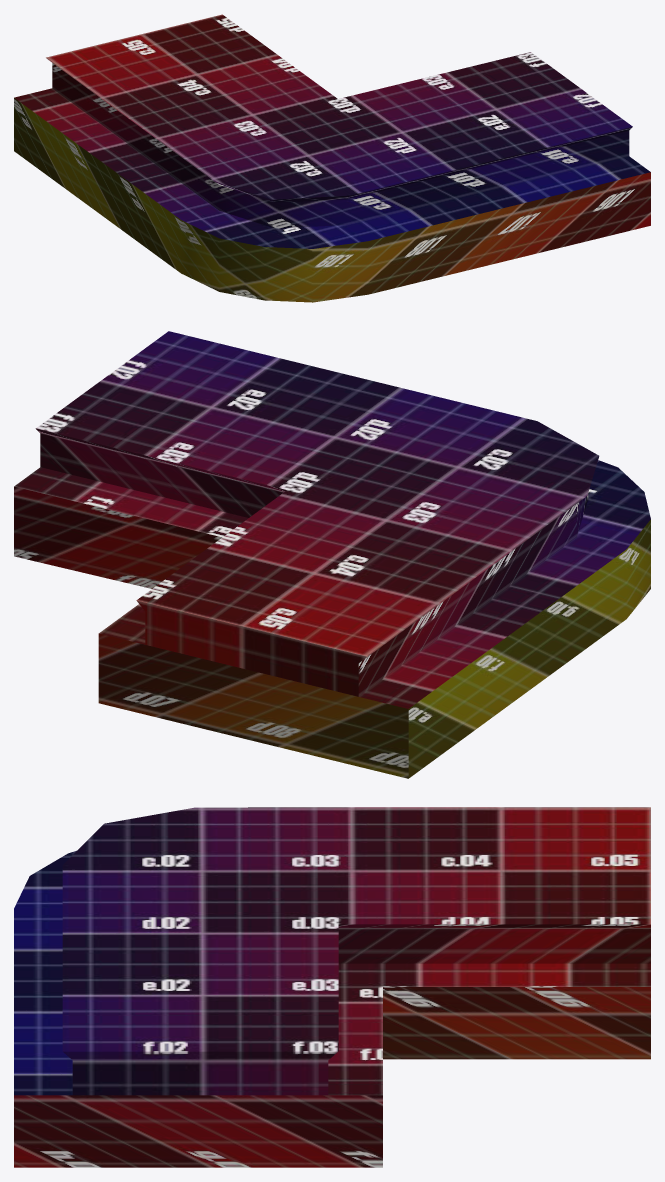
File: ClerkOverhangCorner.fbx
3 renders of one model, top to bottom at view 1: azimuth 30°, elevation 25°; view 2: azimuth 150°, elevation 25°; view 3: azimuth 270°, elevation 25°, orthographic. The views are drawn at different scales.
Visible parts, largest first — view 1: pCube24; view 2: pCube24; view 3: pCube24.
Part boxes in pixels (x1,y1,x2,y2): pCube24: (14,14,650,302); pCube24: (14,331,650,778); pCube24: (14,807,650,1167).
Size of the model in its own units: 104 by 23.12 by 105.
